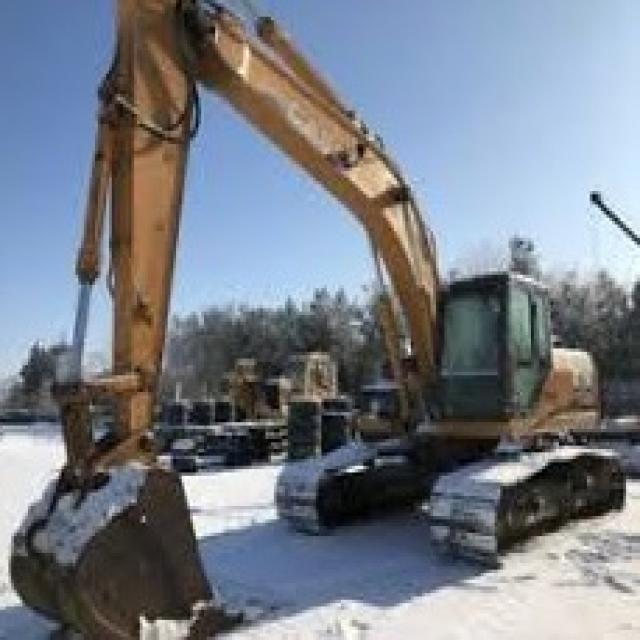excavator: (287, 247, 622, 561)
